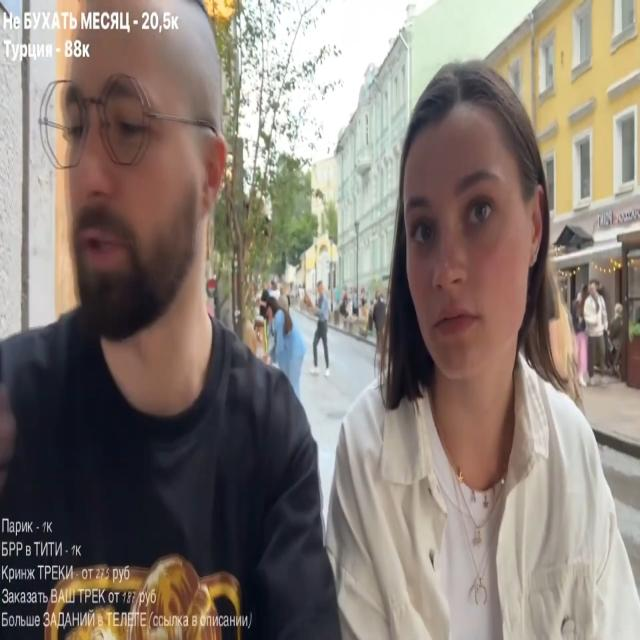Person: (283, 53, 640, 640), (0, 17, 341, 628), (260, 288, 310, 395), (581, 280, 611, 379), (308, 280, 332, 371)
